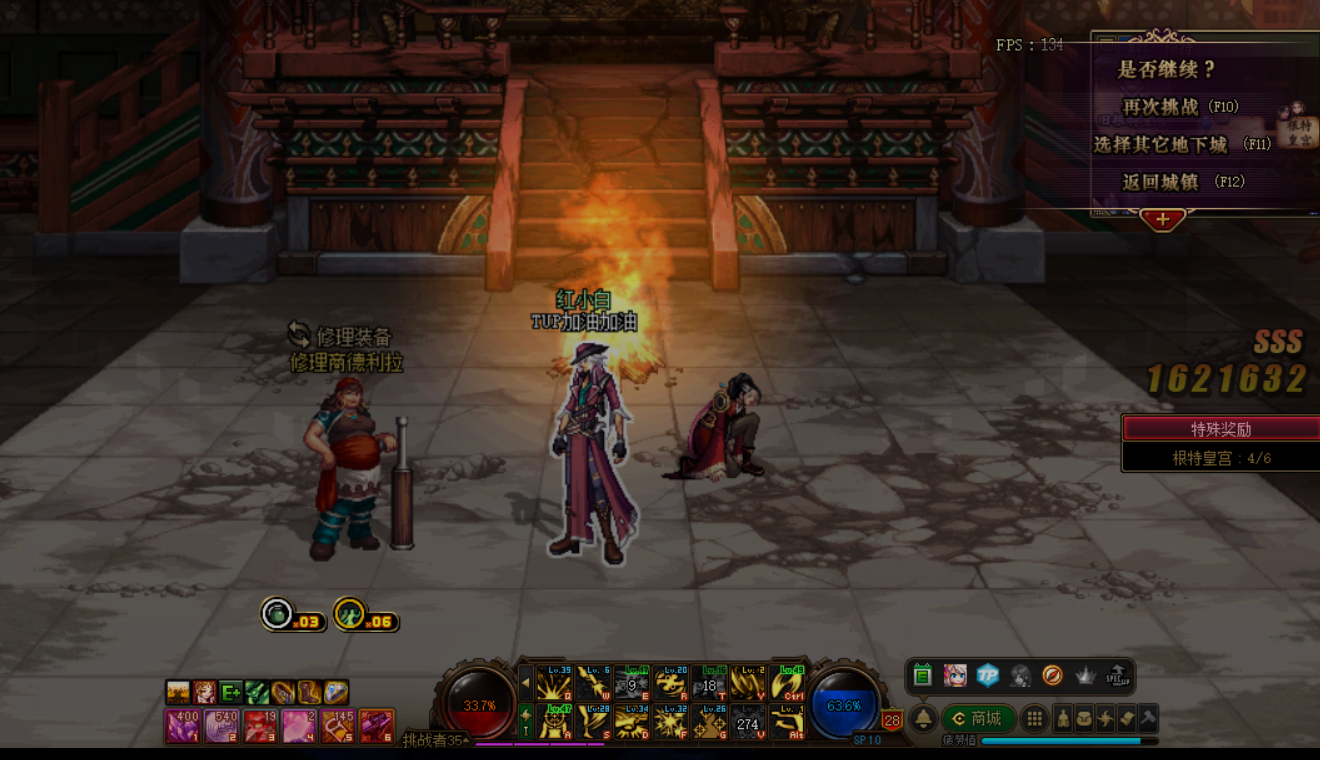warrior: (522, 320, 652, 570)
